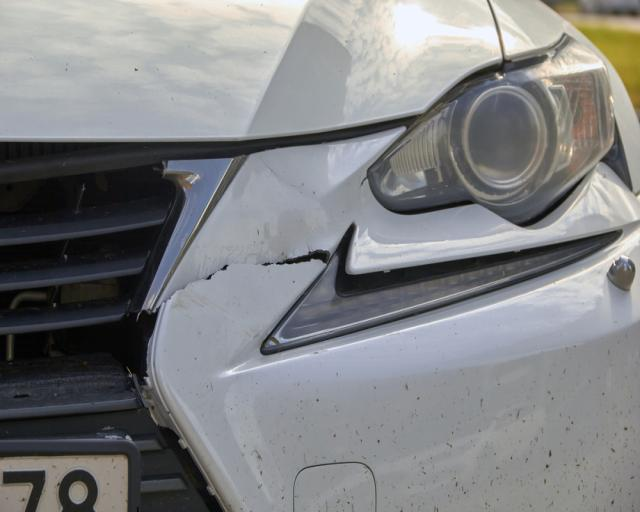crack: (152, 247, 333, 308)
